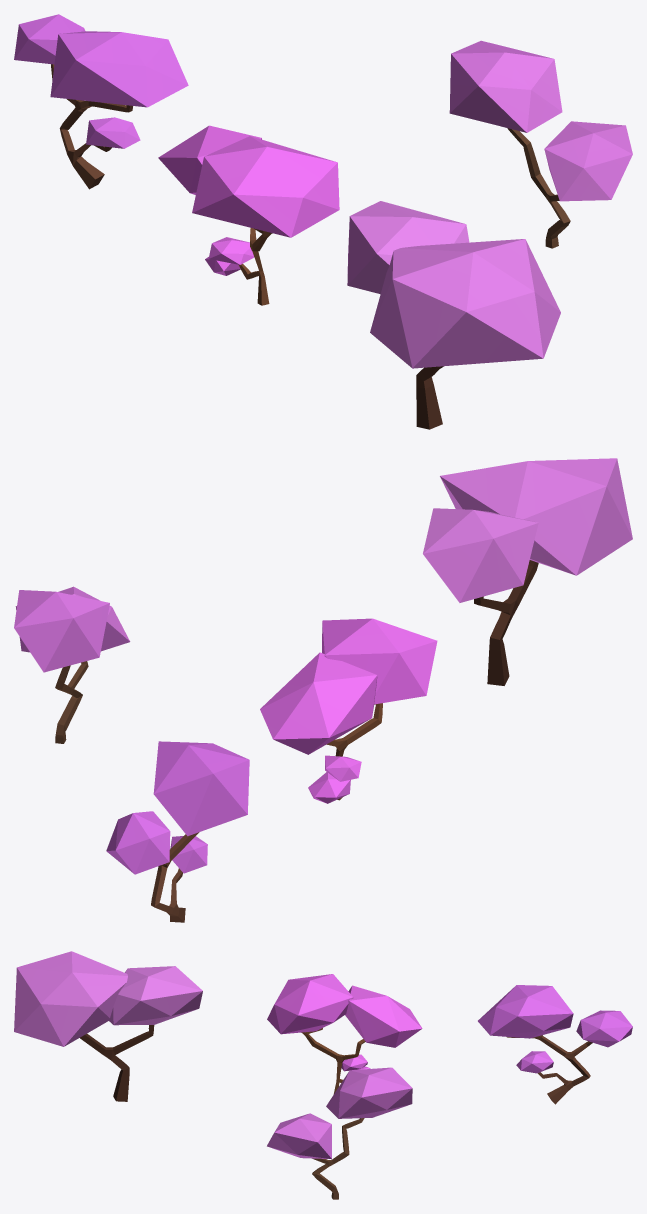
Rendered from LowPolyTrees.fbx.
3 views of the same model, one above another, from view 1: azimuth 30°, elevation 25°; view 2: azimuth 150°, elevation 25°; view 3: azimuth 270°, elevation 25° (orthographic). The views are drawn at different scales.
Parts seen in each view (by area): view 1: Icosphere.004, Icosphere.002, Icosphere.006, Icosphere.001, Cube.001, Cube.003, Cube.002, Cube; view 2: Icosphere.004, Icosphere.002, Icosphere.001, Icosphere.006, Cube.002, Cube.001, Cube.003, Cube; view 3: Icosphere.004, Icosphere.002, Icosphere.001, Icosphere.006, Cube.002, Cube.001, Cube.003, Cube.
Boxes of the visible parts, x1,y1,x2,y2 form: Icosphere.004: (347, 201, 560, 368); Icosphere.002: (158, 125, 339, 275); Icosphere.006: (449, 40, 632, 201); Icosphere.001: (14, 14, 188, 148); Cube.001: (51, 64, 132, 189); Cube.003: (507, 128, 570, 248); Cube.002: (416, 366, 443, 429); Cube: (239, 228, 272, 305); Icosphere.004: (423, 458, 632, 602); Icosphere.002: (260, 618, 437, 803); Icosphere.001: (106, 741, 249, 874); Icosphere.006: (14, 586, 130, 672); Cube.002: (474, 560, 538, 685); Cube.001: (151, 832, 199, 922); Cube.003: (55, 661, 88, 743); Cube: (326, 703, 382, 800); Icosphere.004: (14, 951, 202, 1046); Icosphere.002: (267, 974, 422, 1071); Icosphere.001: (478, 985, 632, 1073); Icosphere.006: (267, 1067, 412, 1159); Cube.002: (80, 1025, 154, 1101); Cube.001: (507, 1035, 592, 1104); Cube.003: (312, 1118, 364, 1199); Cube: (301, 1028, 365, 1094).
Size of the model in its own units: 746 by 351 by 1437.
